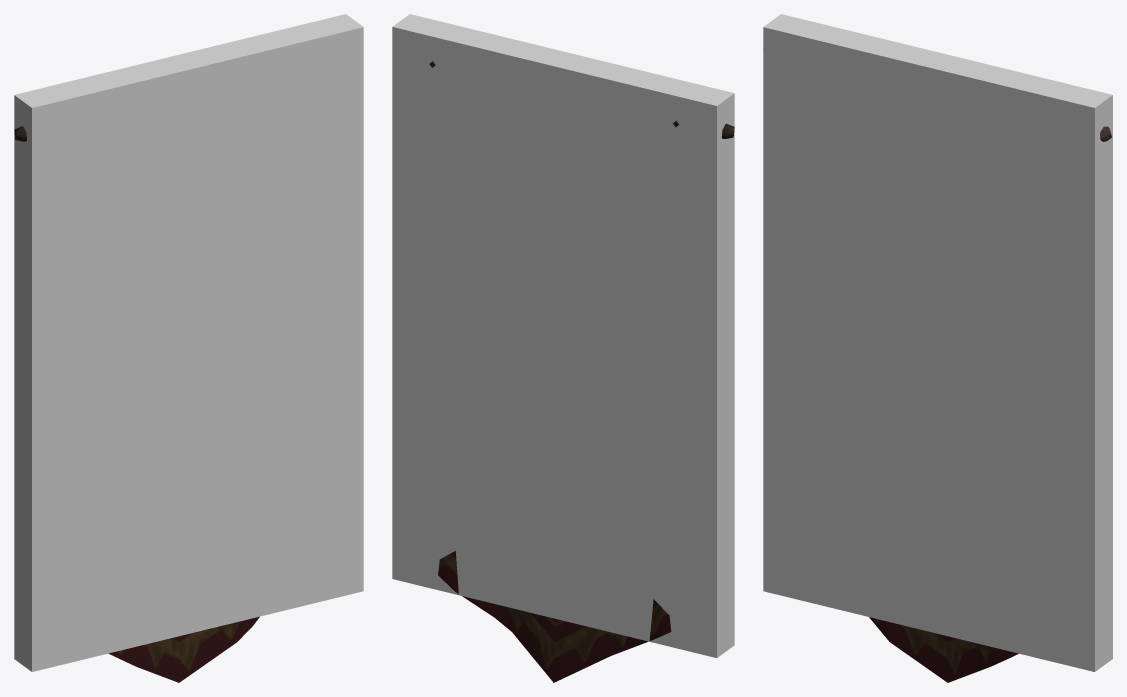
The model's file is tapestry_heraldic_v1_lite.glb.
The picture shows the model from 3 angles, left to right: view 1: azimuth 30°, elevation 25°; view 2: azimuth 150°, elevation 25°; view 3: azimuth 330°, elevation 25°; orthographic projection. The views are drawn at different scales.
Visible parts, largest first — view 1: col_tapestry, tapestry; view 2: col_tapestry, tapestry; view 3: col_tapestry, tapestry.
Part boxes in pixels (x1=…): col_tapestry: x1=14, y1=14, x2=363, y2=671; tapestry: x1=14, y1=126, x2=259, y2=682; col_tapestry: x1=392, y1=14, x2=734, y2=657; tapestry: x1=429, y1=61, x2=734, y2=682; col_tapestry: x1=763, y1=14, x2=1112, y2=671; tapestry: x1=869, y1=126, x2=1111, y2=682.
Size of the model in its own units: 1.67 by 2.9 by 0.1575.
Materials: 2 (2 with a texture image).
